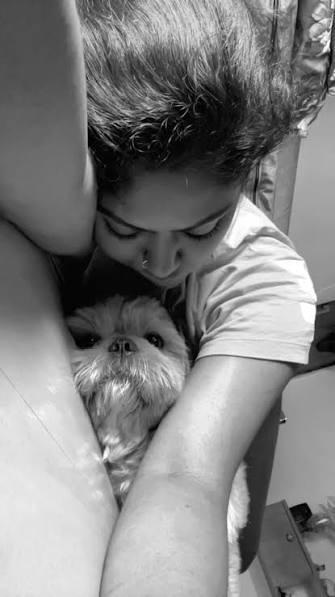adult_dog: (58, 281, 200, 517)
non-dog: (0, 1, 319, 597)
